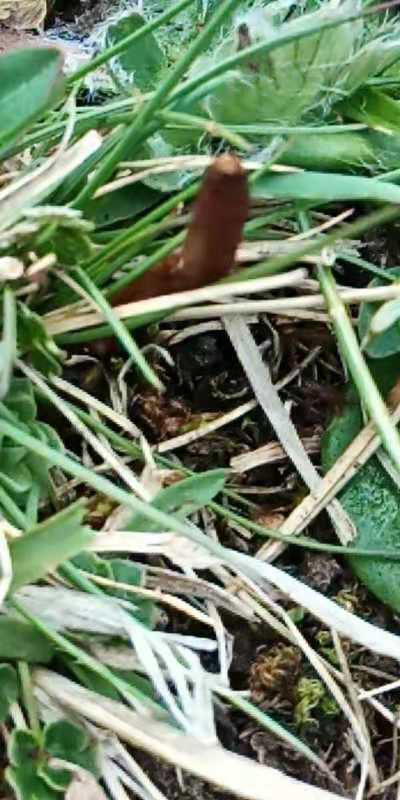cpf: (121, 151, 252, 301)
